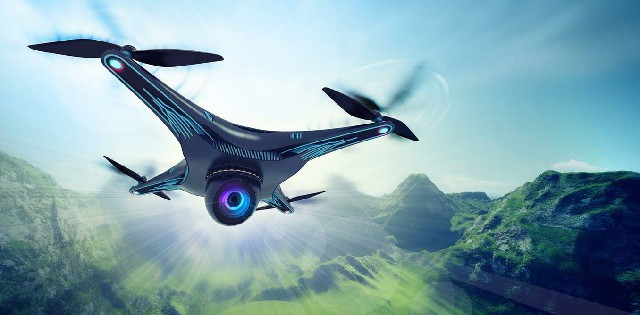maybay_khongnguoilai: (40, 24, 420, 219)
